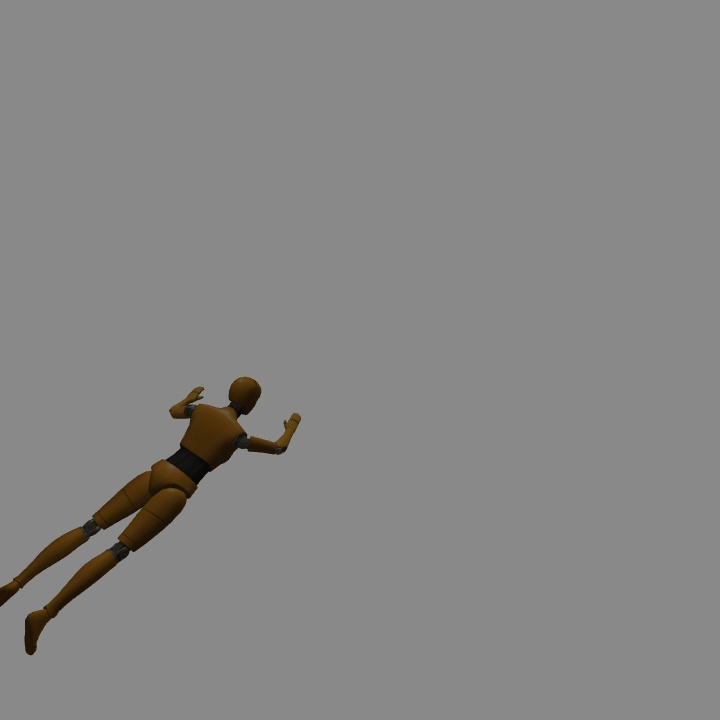victim: (4, 378, 301, 644)
